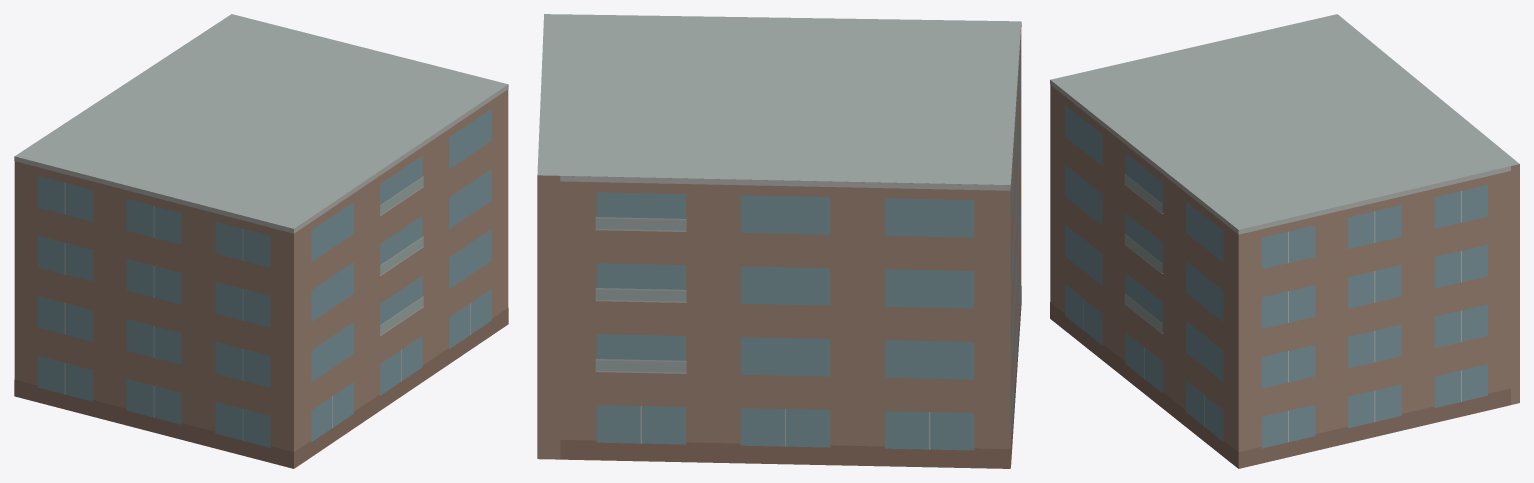
Rendered from survey-upis-33004187.glb.
3 views of the same model, side by side, from view 1: azimuth 30°, elevation 25°; view 2: azimuth 150°, elevation 25°; view 3: azimuth 270°, elevation 25° (orthographic). The views are drawn at different scales.
Parts seen in each view (by area): view 1: survey-upis-33004187.tmp; view 2: survey-upis-33004187.tmp; view 3: survey-upis-33004187.tmp.
Boxes of the visible parts, x1=… form: survey-upis-33004187.tmp: x1=14, y1=14, x2=508, y2=468; survey-upis-33004187.tmp: x1=537, y1=14, x2=1021, y2=468; survey-upis-33004187.tmp: x1=1050, y1=14, x2=1519, y2=468.
Bounding box in the file's own units: 23.84 × 12.3 × 21.91.
